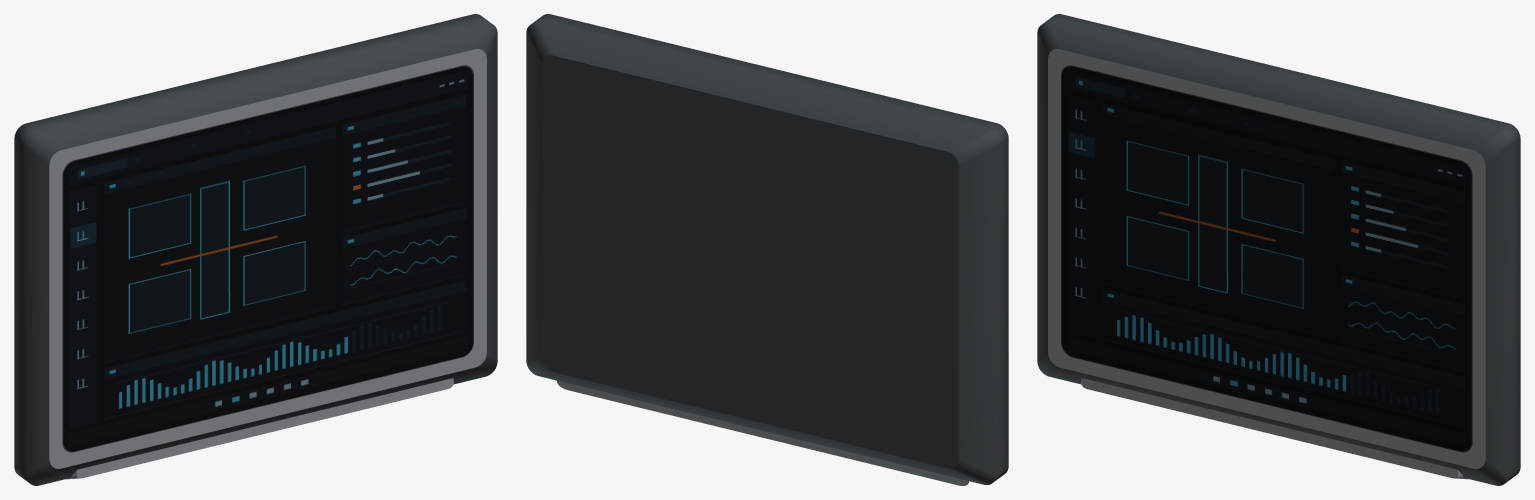
File: ZH_ENV_V9_FLUSH_TERMINAL_003.fbx
3 renders of one model, left to right at view 1: azimuth 30°, elevation 25°; view 2: azimuth 150°, elevation 25°; view 3: azimuth 330°, elevation 25°, orthographic.
Parts seen in each view (by area): view 1: V9 Display | flush coated screen.004, V9 Display | continuous chamfered housing.004, V9 Display | precision metal lip.004, V9 Display | angled lower cheek.004; view 2: V9 Display | continuous chamfered housing.004, V9 Display | angled lower cheek.004; view 3: V9 Display | flush coated screen.004, V9 Display | continuous chamfered housing.004, V9 Display | precision metal lip.004, V9 Display | angled lower cheek.004.
Boxes of the visible parts, x1,y1,x2,y2 form: V9 Display | flush coated screen.004: (63, 66, 473, 451); V9 Display | continuous chamfered housing.004: (14, 14, 497, 485); V9 Display | precision metal lip.004: (49, 49, 486, 468); V9 Display | angled lower cheek.004: (66, 378, 453, 479); V9 Display | continuous chamfered housing.004: (526, 14, 1008, 484); V9 Display | angled lower cheek.004: (557, 380, 968, 485); V9 Display | flush coated screen.004: (1061, 66, 1471, 451); V9 Display | continuous chamfered housing.004: (1037, 14, 1520, 485); V9 Display | precision metal lip.004: (1048, 49, 1485, 468); V9 Display | angled lower cheek.004: (1081, 378, 1468, 479).
Size of the model in its own units: 1.02 by 0.7532 by 0.111.
Materials: 3 (1 with a texture image).
